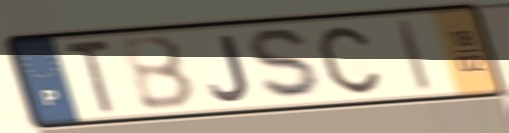B: (116, 33, 200, 113)
C: (315, 23, 384, 96)
I: (393, 15, 435, 93)
J: (206, 32, 253, 103)
S: (246, 25, 330, 104)
T: (61, 38, 119, 118)
